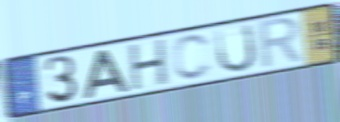3: (41, 54, 80, 105)
A: (81, 48, 131, 100)
C: (172, 32, 215, 83)
H: (128, 36, 170, 94)
R: (257, 14, 306, 73)
U: (213, 21, 259, 75)
